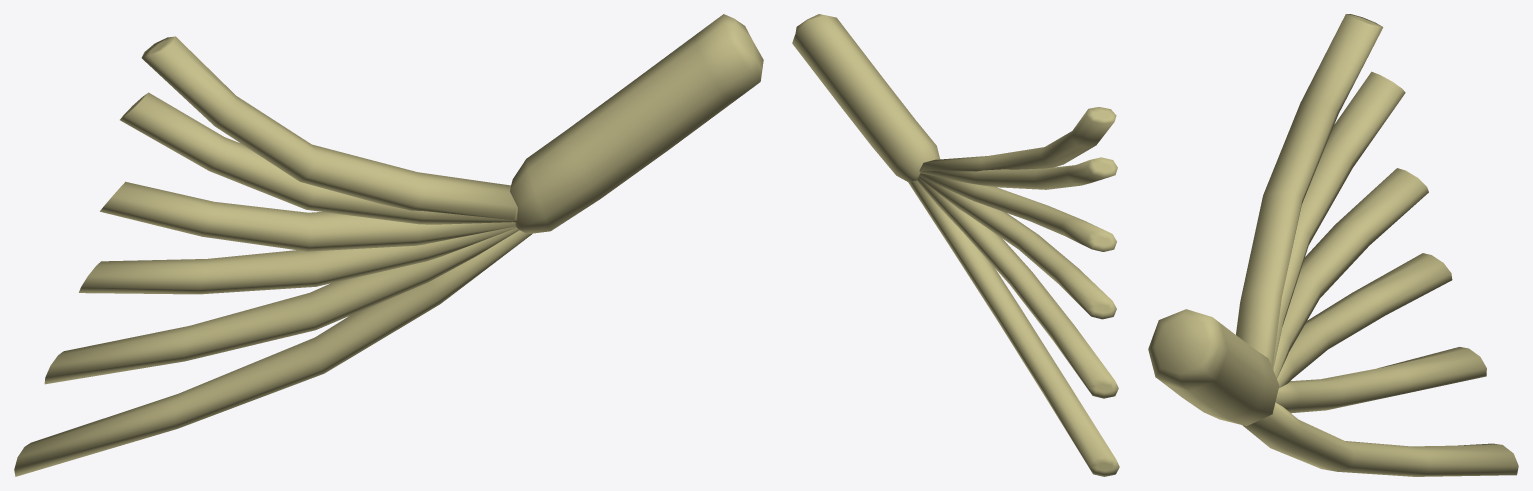
Rendered from Nerves_L7.FBX.
3 views of the same model, side by side, from view 1: azimuth 30°, elevation 25°; view 2: azimuth 150°, elevation 25°; view 3: azimuth 270°, elevation 25° (orthographic). The views are drawn at different scales.
Visible parts, largest first — view 1: Nerves_L7; view 2: Nerves_L7; view 3: Nerves_L7.
Part boxes in pixels (x1=…): Nerves_L7: x1=14, y1=14, x2=763, y2=476; Nerves_L7: x1=792, y1=14, x2=1119, y2=476; Nerves_L7: x1=1148, y1=14, x2=1518, y2=476.
Size of the model in its own units: 0.00784 by 0.00573 by 0.00388.
